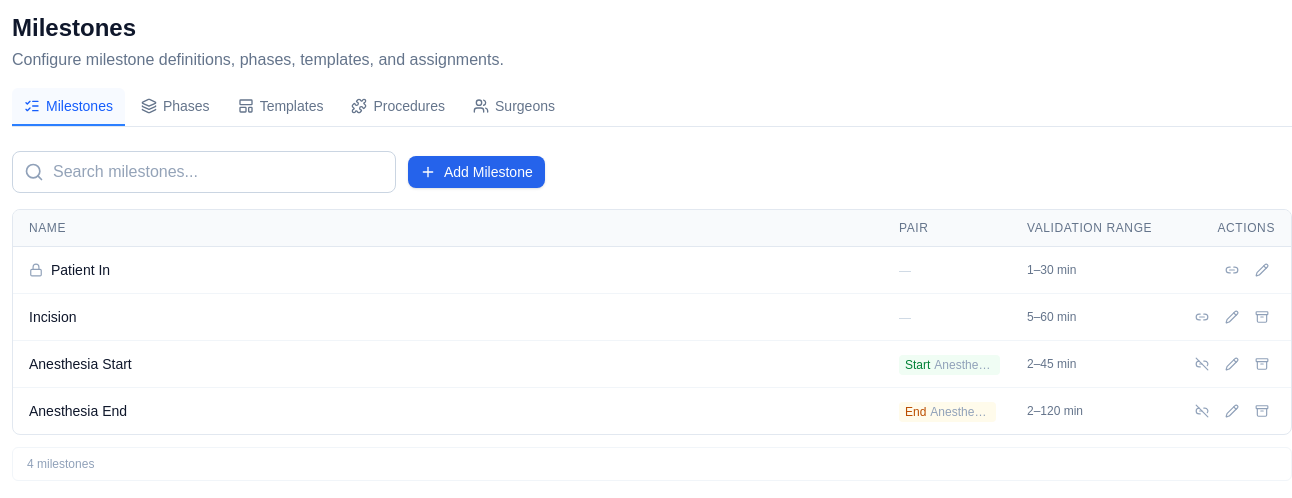
MilestonesSettingsPage › Milestones tab - search › filters milestones by search term
The width and height of the screenshot is (1292, 498).
Type "Anes" into the field with placeholder "Search milestones..." at (204, 172), box [12,151,396,193]
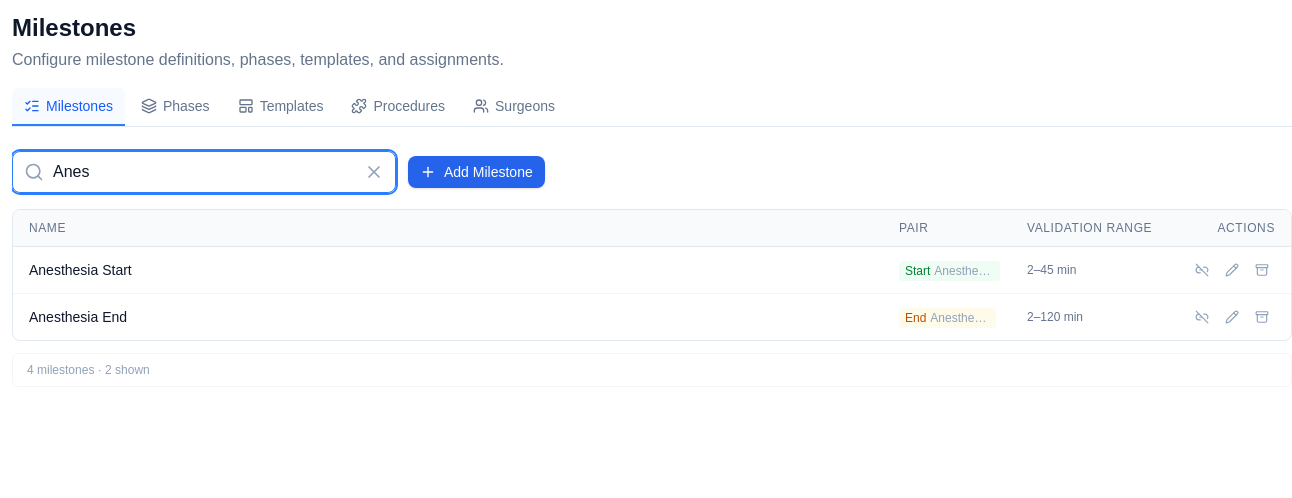
Expected: the text "Patient In" is gone
Expected: the text "Incision" is gone
